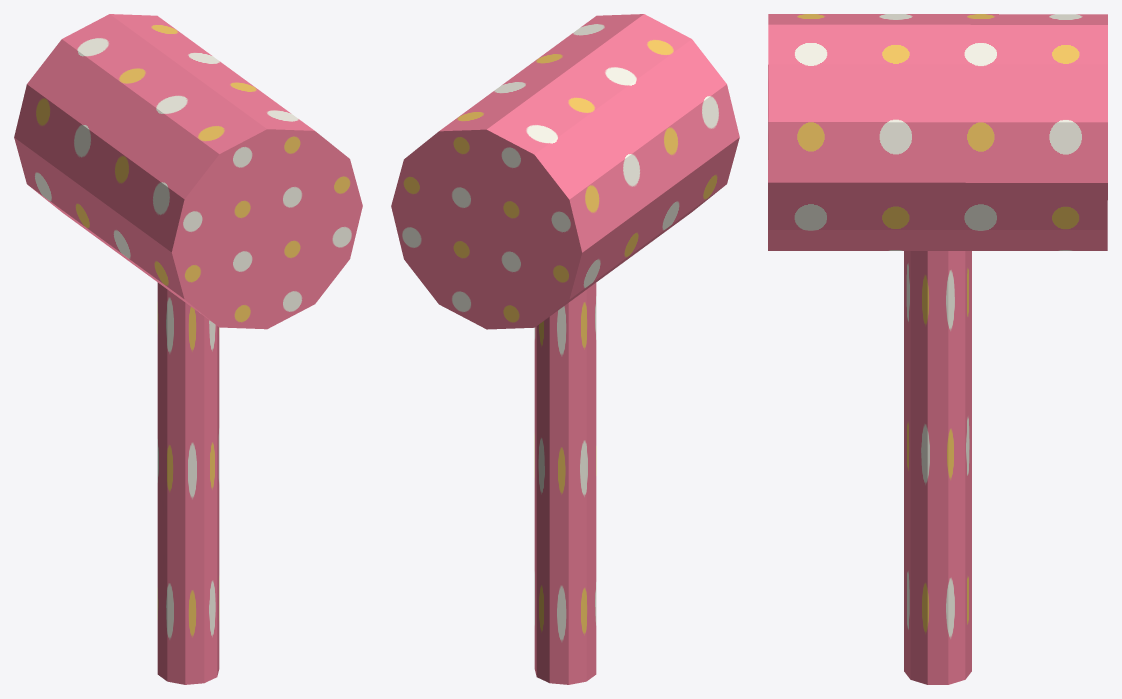
File: hazard_hammer.glb
3 views of the same model, side by side, from view 1: azimuth 30°, elevation 25°; view 2: azimuth 150°, elevation 25°; view 3: azimuth 270°, elevation 25° (orthographic). The views are drawn at different scales.
Visible parts, largest first — view 1: hazard_hammer; view 2: hazard_hammer; view 3: hazard_hammer.
Boxes of the visible parts, box(x1,y1,x2,y2) form: hazard_hammer: box(14, 14, 362, 684); hazard_hammer: box(391, 14, 739, 684); hazard_hammer: box(768, 14, 1107, 684).
Bounding box in the file's own units: 0.56 × 1.68 × 0.8004.
1 material, 1 textured.
